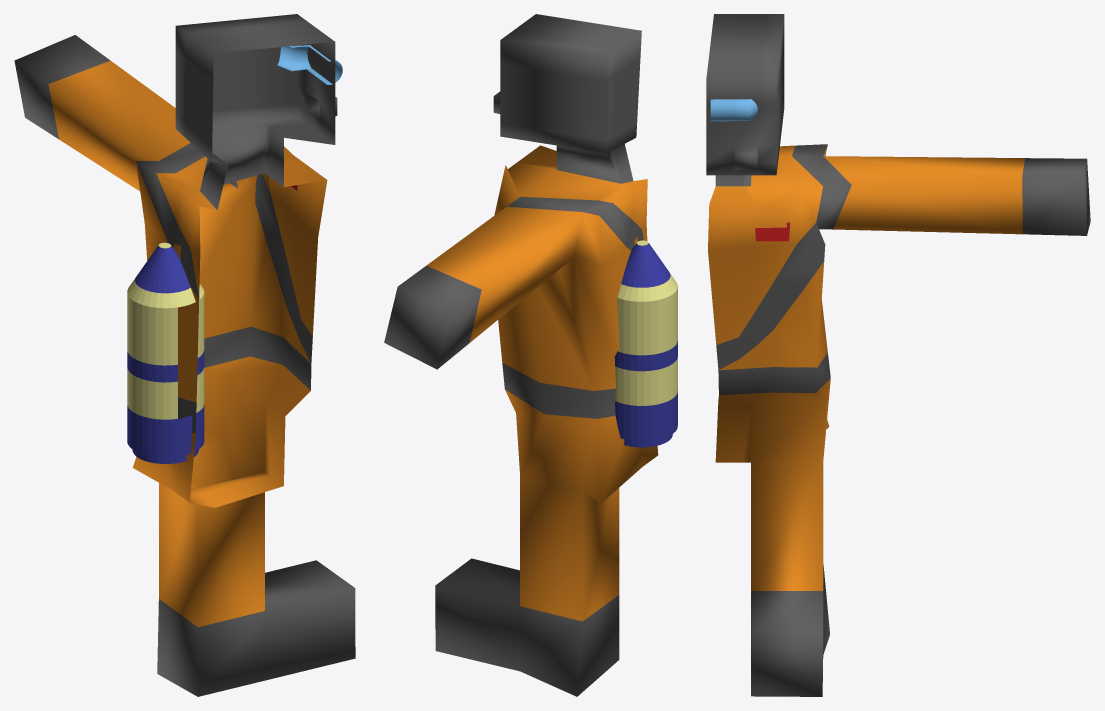
File: lethal company penco.glb
3 renders of one model, left to right at view 1: azimuth 30°, elevation 25°; view 2: azimuth 150°, elevation 25°; view 3: azimuth 270°, elevation 25°, orthographic. The views are drawn at different scales.
Visible parts, largest first — view 1: Cube, Cylinder.001, Cylinder; view 2: Cube, Cylinder.001; view 3: Cube, Cylinder.
Boxes of the visible parts, x1,y1,x2,y2 form: Cube: [14, 14, 355, 696]; Cylinder.001: [127, 242, 204, 463]; Cylinder: [277, 45, 342, 84]; Cube: [384, 14, 658, 696]; Cylinder.001: [614, 240, 677, 447]; Cube: [706, 14, 1090, 696]; Cylinder: [710, 99, 757, 121].
Bounding box in the file's own units: 6.56 × 19.09 × 10.77.
